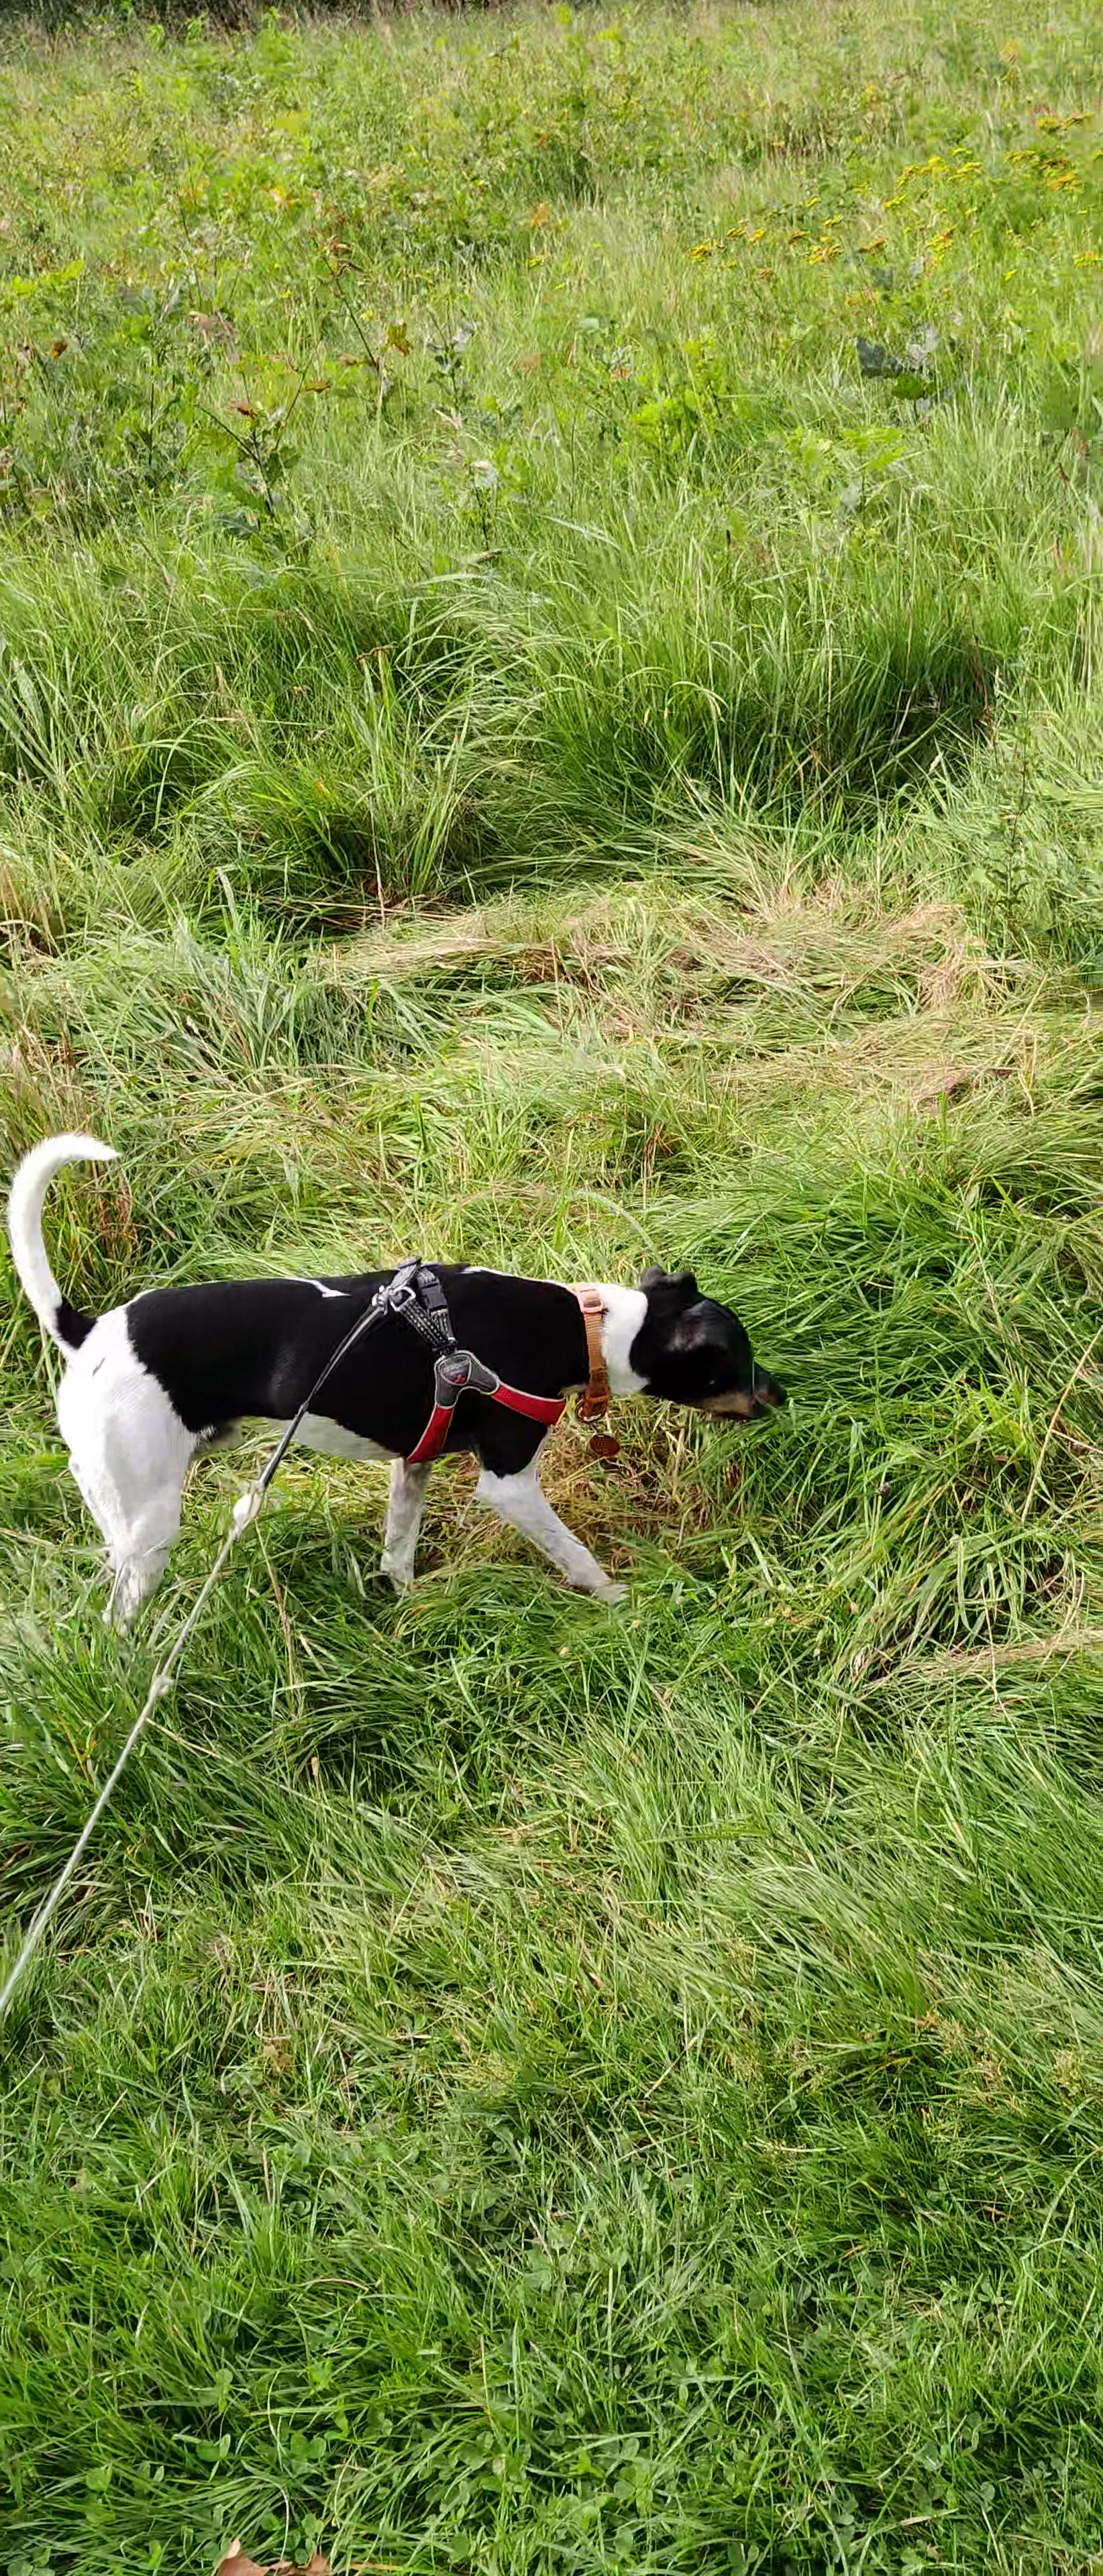Dog: (0, 1124, 794, 1625)
